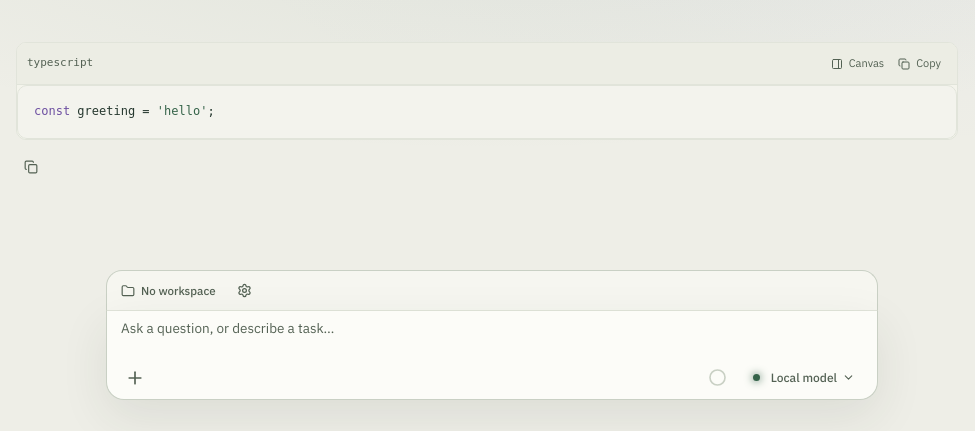
it: renders copy button on markdown code blocks
What coordinates should you click on to do the following:
click the button with aria-label "Copy code block"
I would click on:
 (920, 64)
Its box is [892,48,947,78].
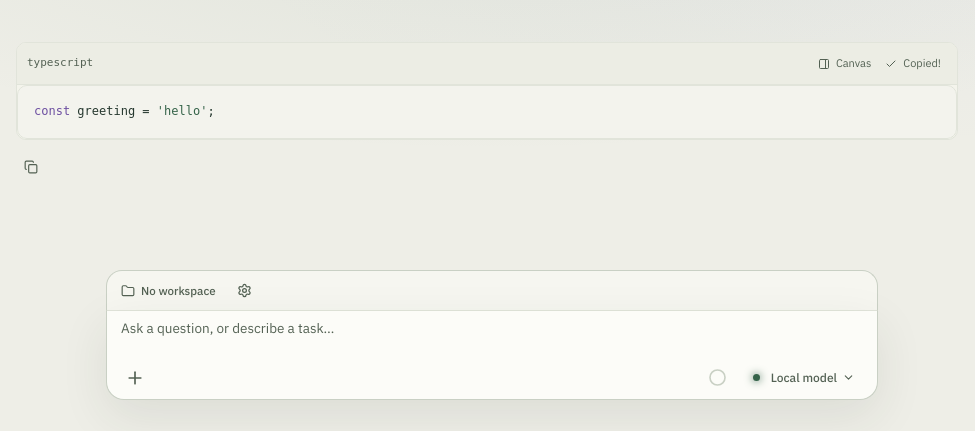
Result: the text "Copied!" is shown at [903,54,941,73]
